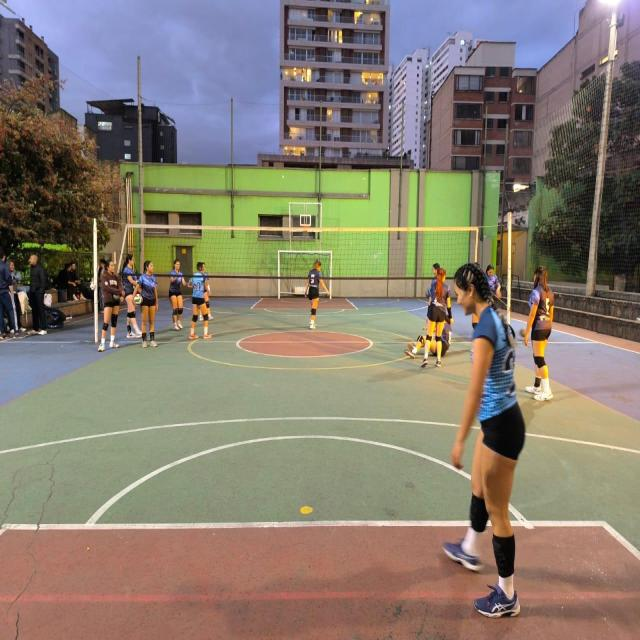volleyball: (134, 294, 142, 305)
